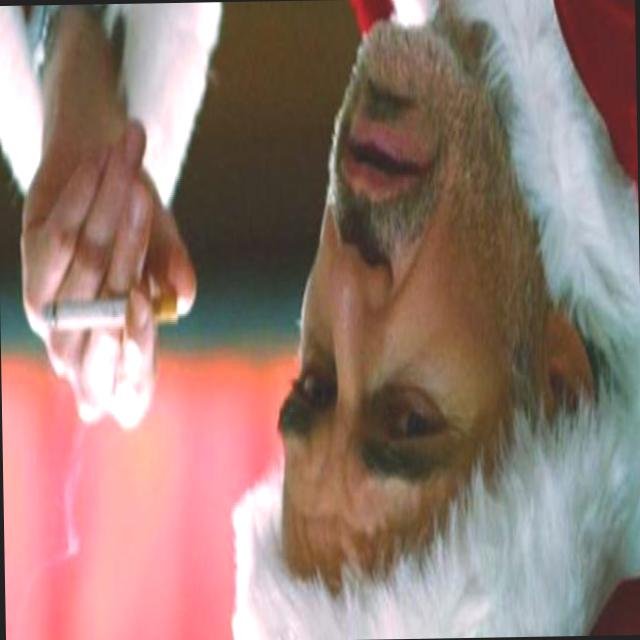smoke: (19, 260, 202, 346)
